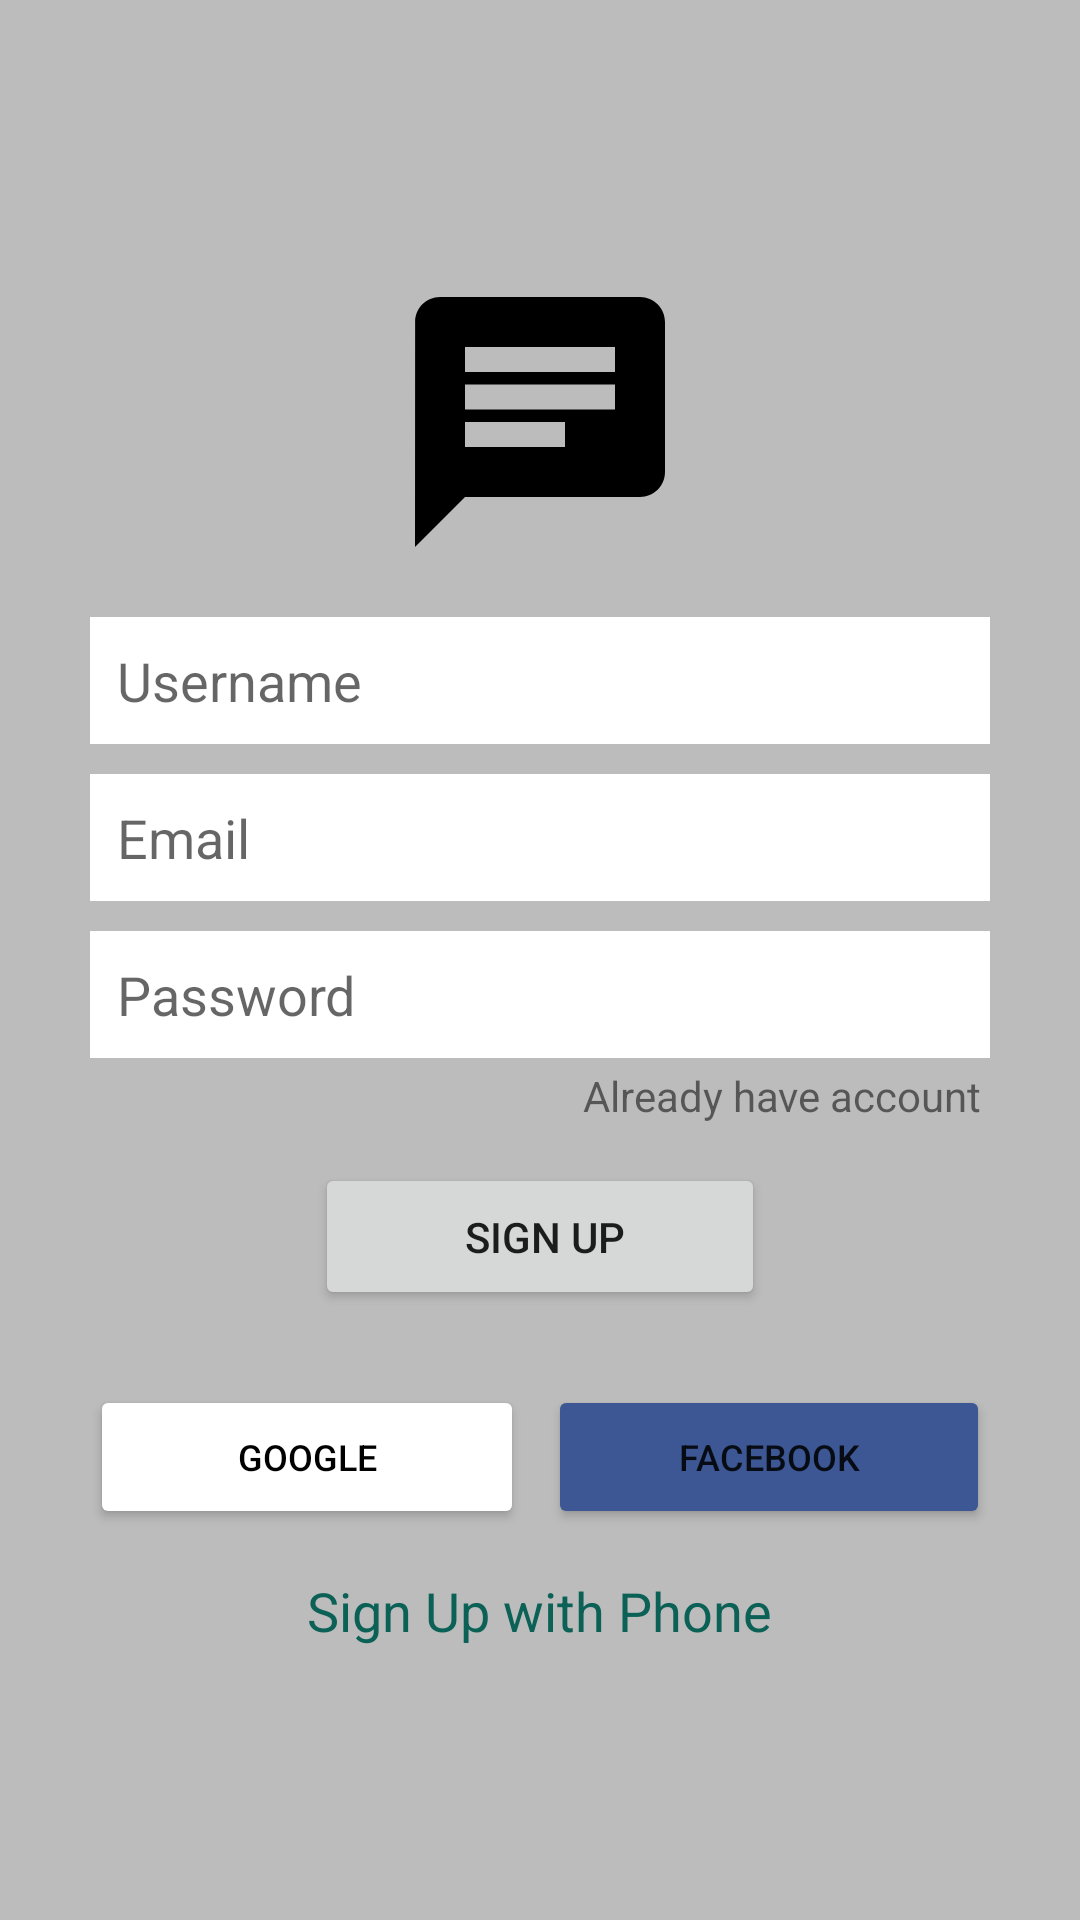

Icons on this 1080×1920 Android screen, each with the point to tap as (x=x, y=y):
chat: (x=540, y=422)
